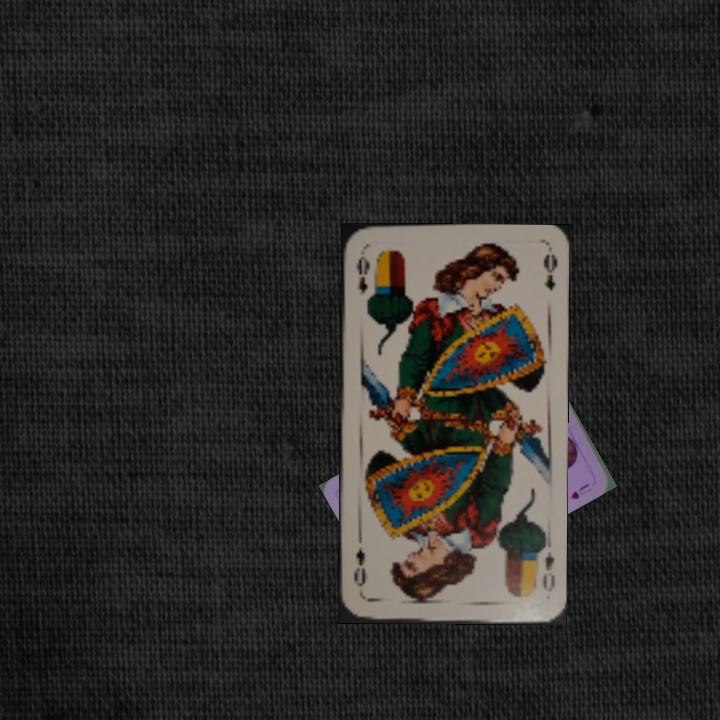EO: (352, 248, 375, 307), (539, 547, 557, 594)
